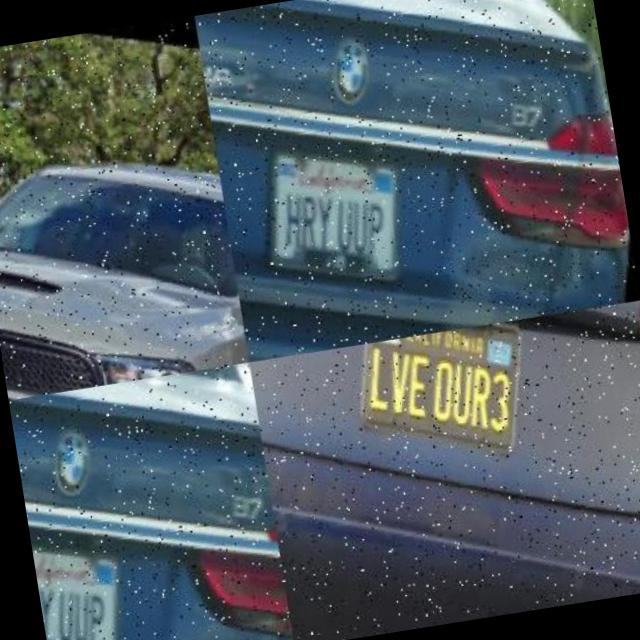LicensePlate: (340, 318, 544, 476), (246, 122, 419, 298), (29, 513, 140, 640)
